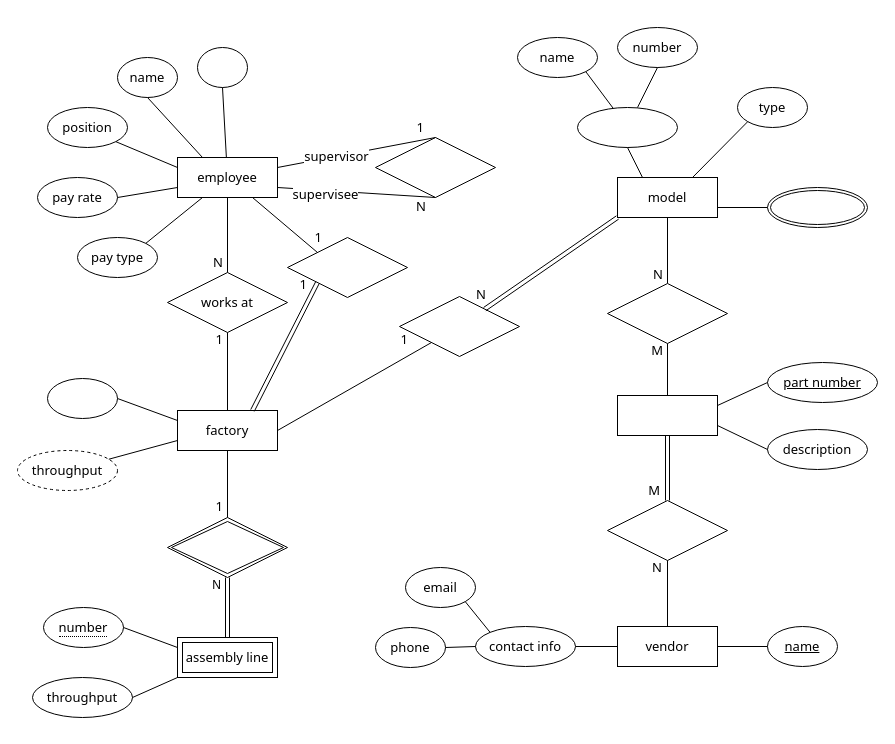
The diagram is 895 pixels wide and 744 high, and some of its shapes have lost their labels. The shapes that lost their labels are listed below. From the top down, each one's box as (x1, y1, x2, y2) in pixels, then its label:
(196, 46, 248, 88): ID
(576, 106, 678, 148): designation
(374, 136, 496, 198): supervises
(766, 186, 868, 228): application
(286, 236, 408, 298): manages
(398, 296, 520, 356): builds
(606, 282, 728, 344): can use
(46, 378, 118, 418): city
(616, 394, 718, 436): part
(166, 516, 288, 578): contains
(606, 500, 728, 560): supplies
